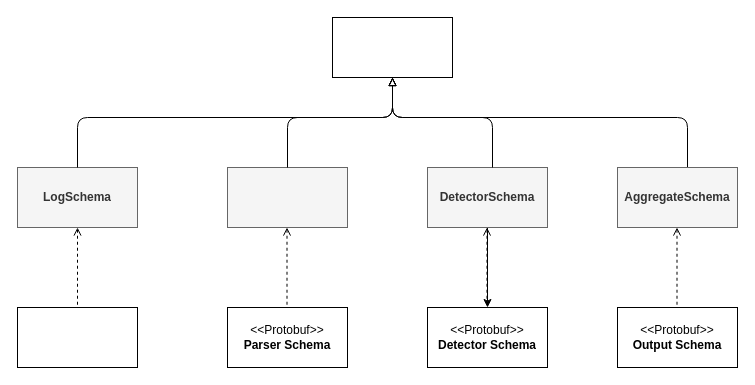
The diagram is 755 pixels wide and 385 high, and some of its shapes have lost their labels. The box of each missing label's shape, as (x1, y1, x2, y2) in pixels:
<<Protobuf>> Log Schema: (16, 306, 138, 368)
BaseSchema: (332, 16, 452, 78)
ParserSchema: (226, 166, 348, 228)
